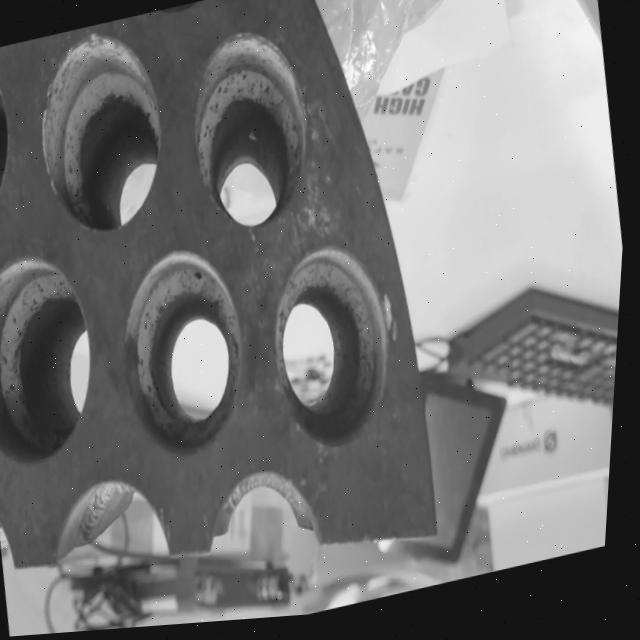Hole: (108, 240, 269, 473), (23, 22, 181, 252), (258, 238, 416, 465), (174, 21, 329, 243), (0, 245, 115, 477), (0, 44, 29, 232)
